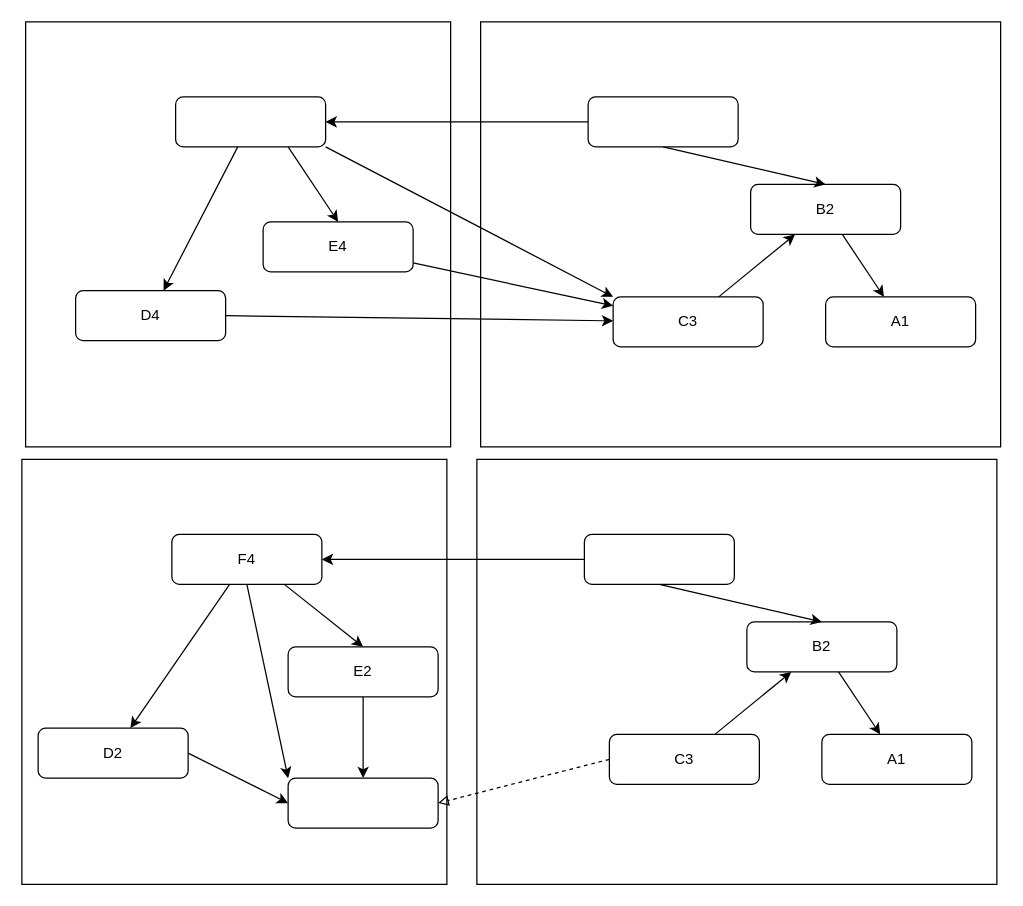
This 1023x906 diagram has some shape labels left out. Each missing label, with the centre of its shape:
"CI1" belongs at (362,802).
"F6" belongs at (250,121).
"G7" belongs at (662,121).
"G8" belongs at (658,558).
